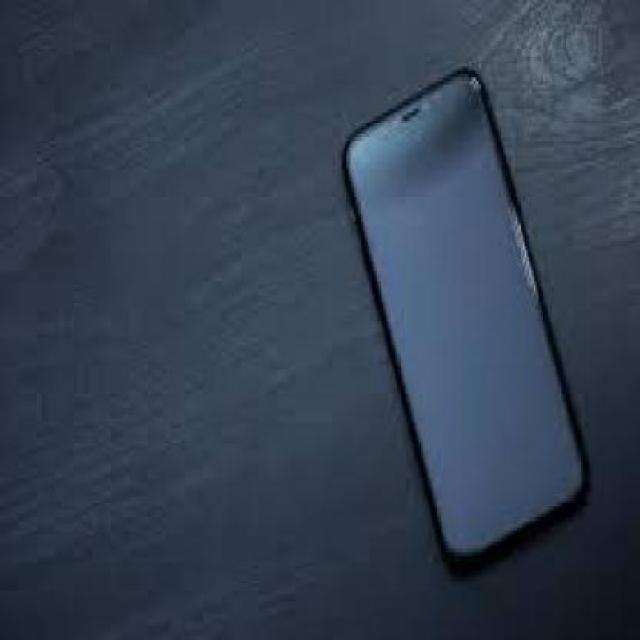phone: (343, 67, 592, 581)
